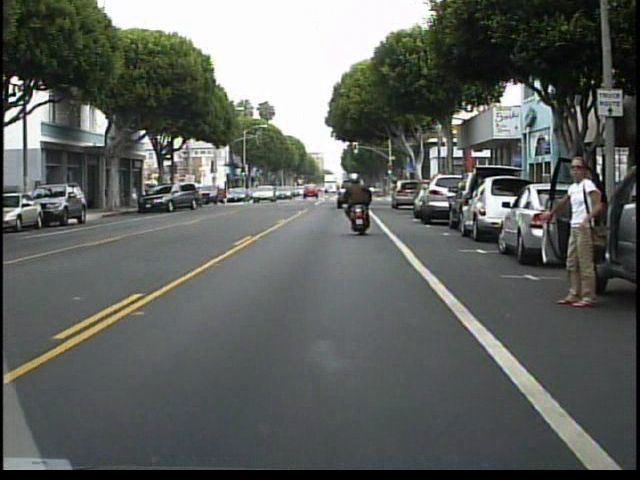person: (548, 150, 605, 313), (336, 169, 375, 233)
